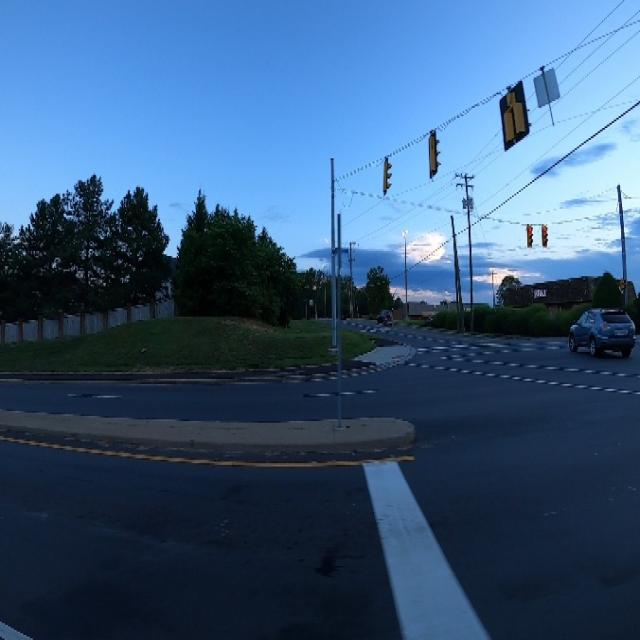cars: (569, 298, 637, 359), (377, 309, 395, 328)
